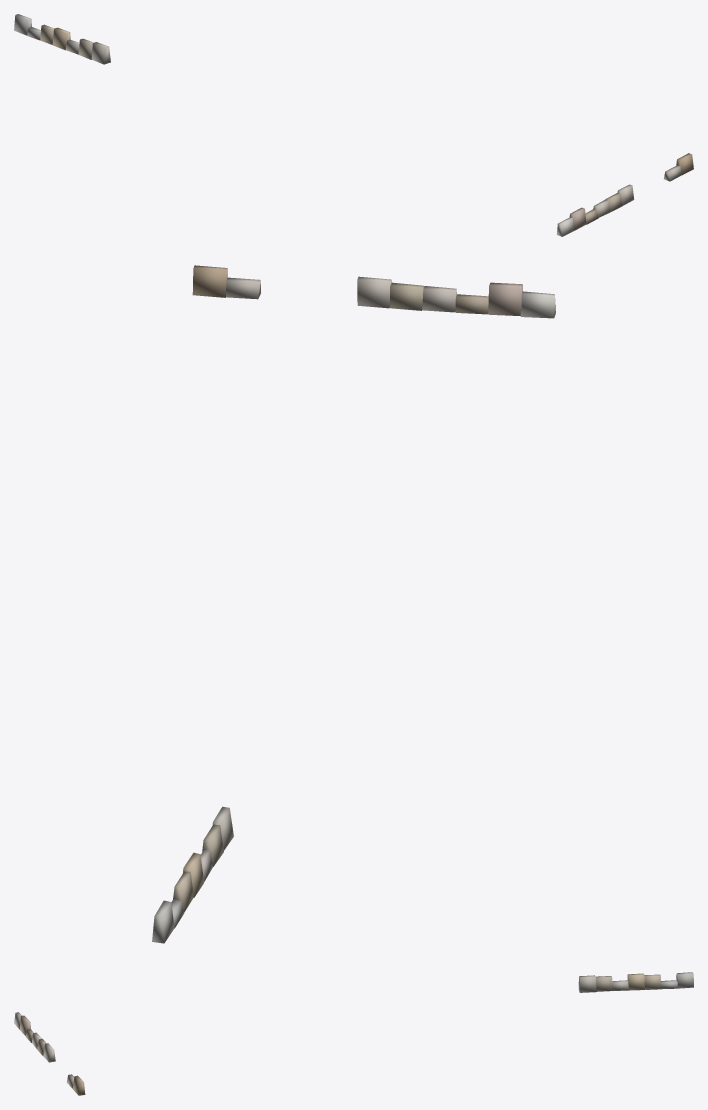
The model's file is farm_-31_-41_far.glb.
The picture shows the model from 3 angles, top to bottom: view 1: azimuth 30°, elevation 25°; view 2: azimuth 150°, elevation 25°; view 3: azimuth 270°, elevation 25°; orthographic projection. The views are drawn at different scales.
Visible parts, largest first — view 1: geometry_0; view 2: geometry_0; view 3: geometry_0.
Part boxes in pixels (x1=…): geometry_0: x1=14, y1=14, x2=693, y2=236; geometry_0: x1=152, y1=265, x2=555, y2=943; geometry_0: x1=14, y1=972, x2=693, y2=1095.
Size of the model in its own units: 31.74 by 4.75 by 64.08.
